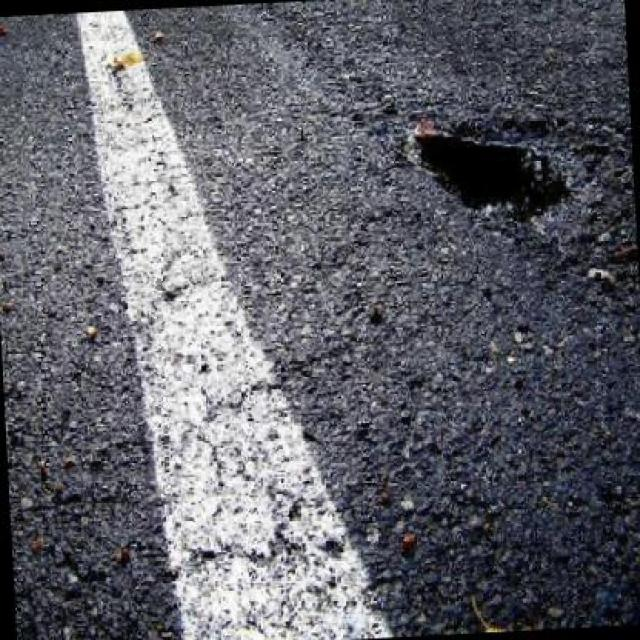pothole: (398, 100, 600, 262)
